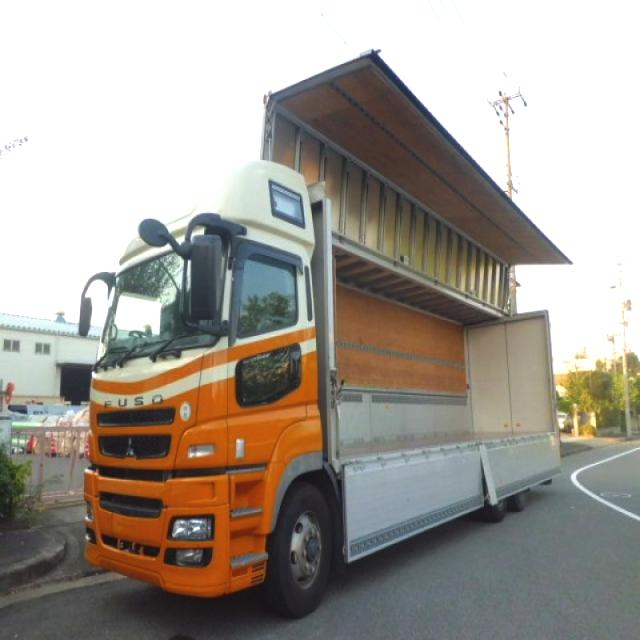truck: (72, 47, 572, 624)
